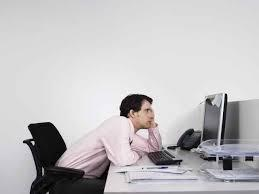Bad Sitting Posture: (49, 71, 198, 188)
